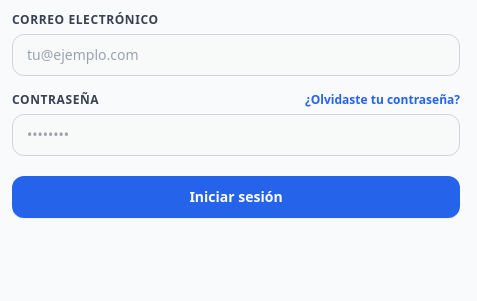
Test case: Auth Forms (Spanish UI & Accessibility) › LoginForm › should show error when submitting invalid email
The image size is (477, 301).
Type "not-an-email" into the field labelled "Correo electrónico" at (236, 55), box top-left (12, 34), bottom-right (460, 76)
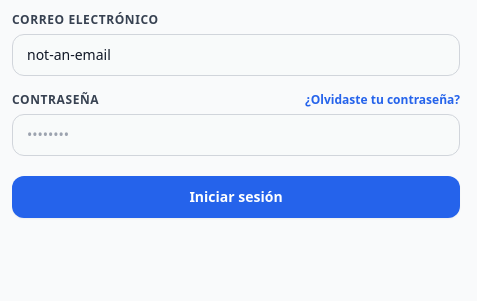
Click the button "Iniciar sesión" at (236, 197), box top-left (12, 176), bottom-right (460, 218)
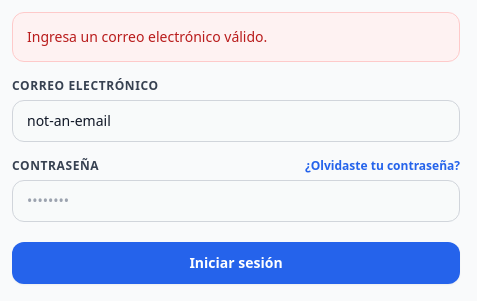
Check: the message reads "Ingresa un correo electrónico válido.", box top-left (27, 27), bottom-right (267, 46)
